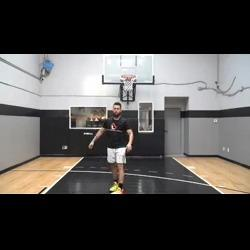Player: (86, 100, 136, 194)
